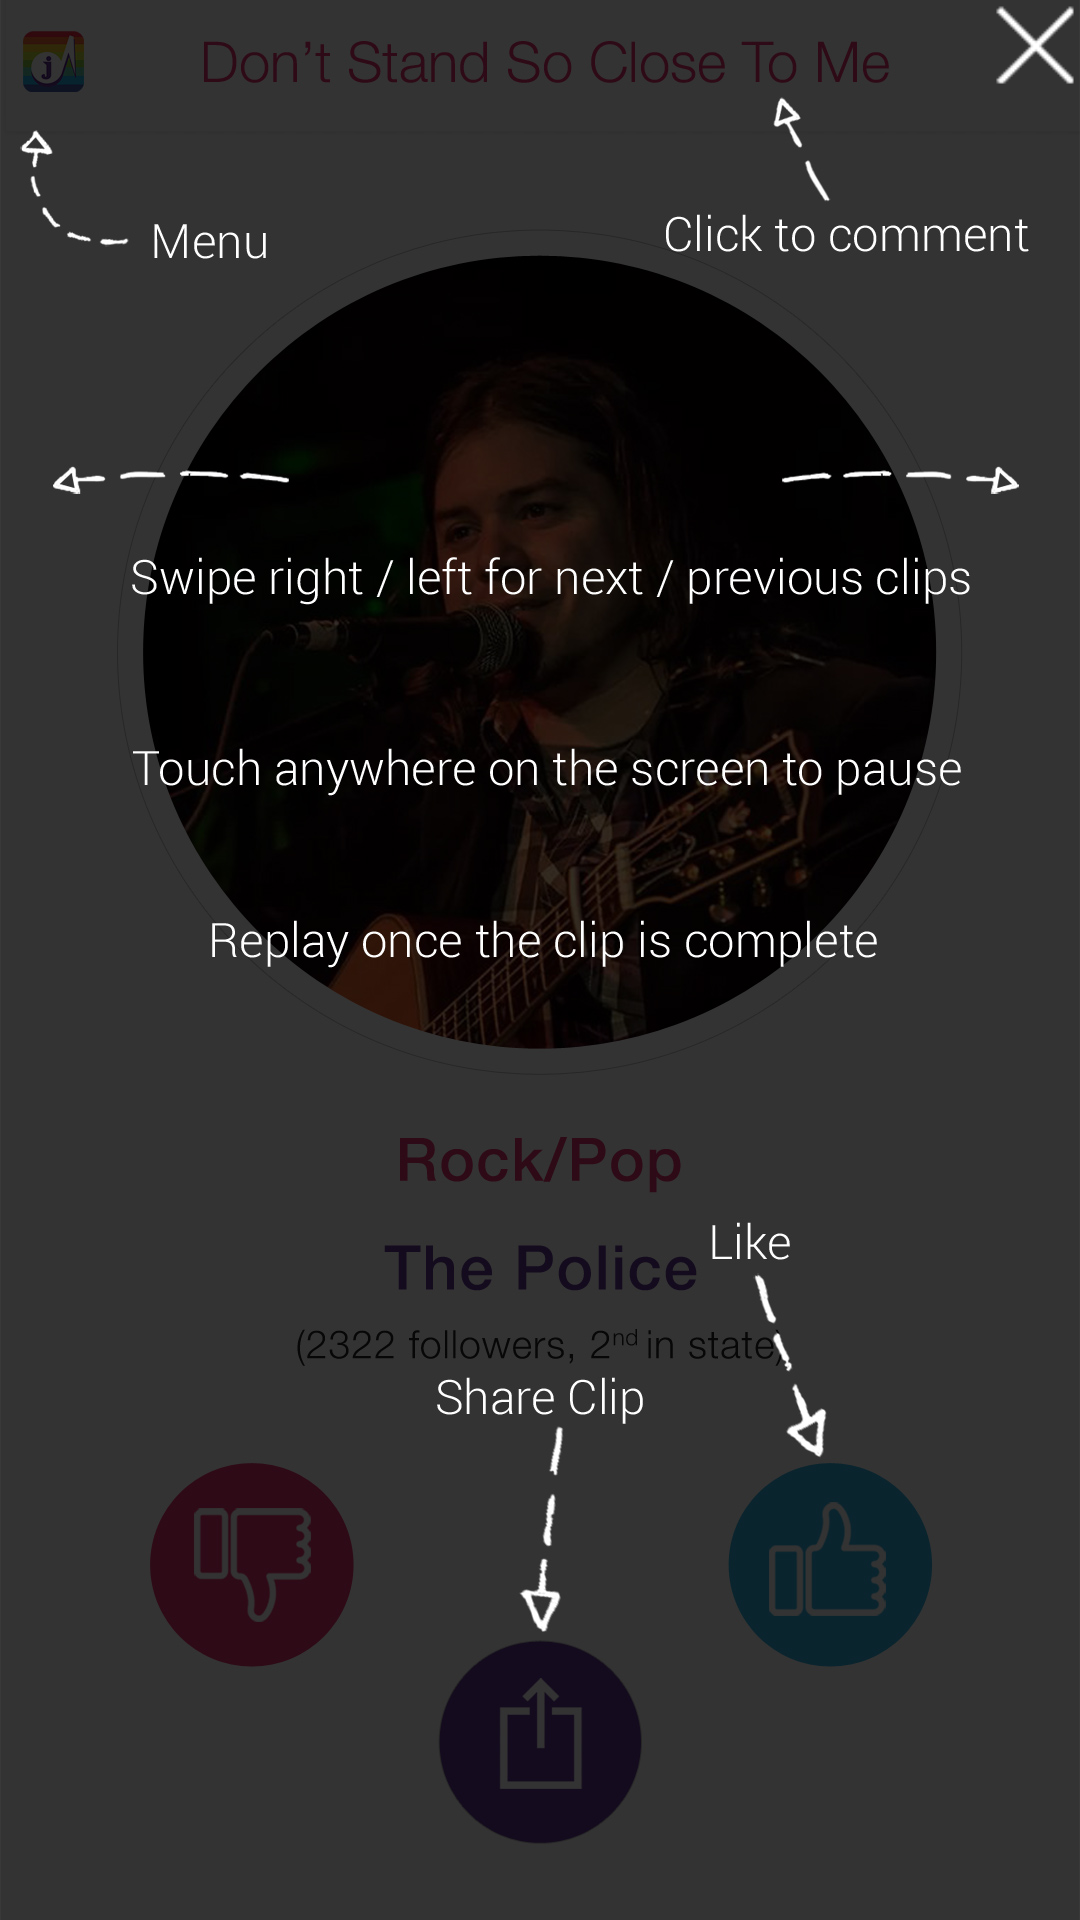

Icons on this 1080w x 1920h Android screen, each with the point to tap as [x,y]:
close: [1035,45]
